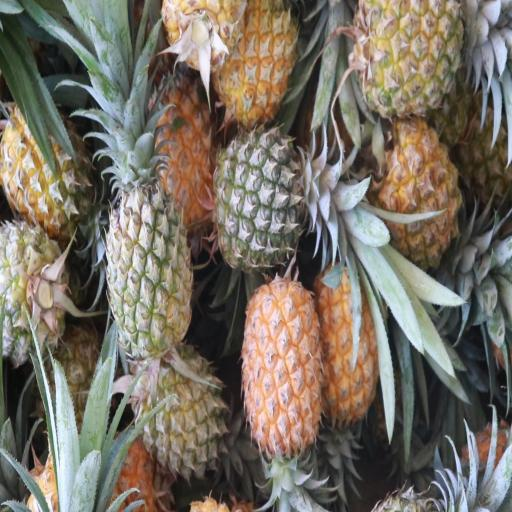------------------------------: (106, 153, 191, 350), (364, 0, 462, 112), (138, 347, 224, 474), (2, 100, 86, 225)
Pineapple - v8 v1: (245, 281, 323, 454), (318, 260, 388, 421), (382, 121, 462, 258), (218, 0, 300, 119), (152, 78, 220, 220)
